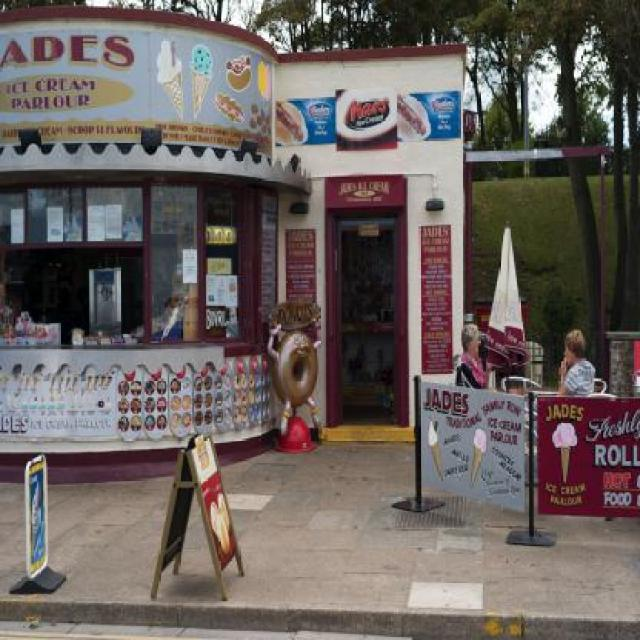Ice cream: (188, 41, 215, 117), (550, 414, 578, 486), (466, 422, 490, 492), (426, 410, 446, 482), (29, 473, 43, 564), (157, 41, 183, 85), (256, 54, 273, 118)
